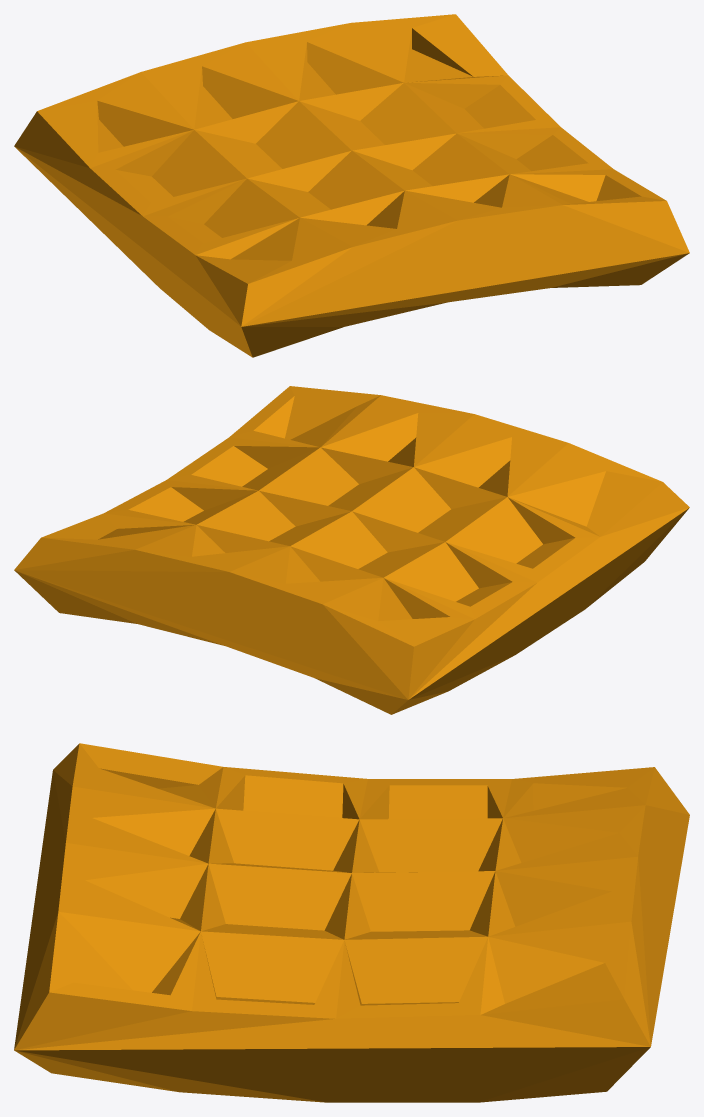
Rendered from waffle.fbx.
3 renders of one model, top to bottom at view 1: azimuth 30°, elevation 25°; view 2: azimuth 150°, elevation 25°; view 3: azimuth 270°, elevation 25°, orthographic. The views are drawn at different scales.
Parts seen in each view (by area): view 1: Cube; view 2: Cube; view 3: Cube.
Boxes of the visible parts, <box> form: Cube: <box>14,14,689,357</box>; Cube: <box>14,386,689,714</box>; Cube: <box>14,743,689,1102</box>.
Bounding box in the file's own units: 0.1497 × 0.0365 × 0.1544.
Materials: 1 (1 with a texture image).
